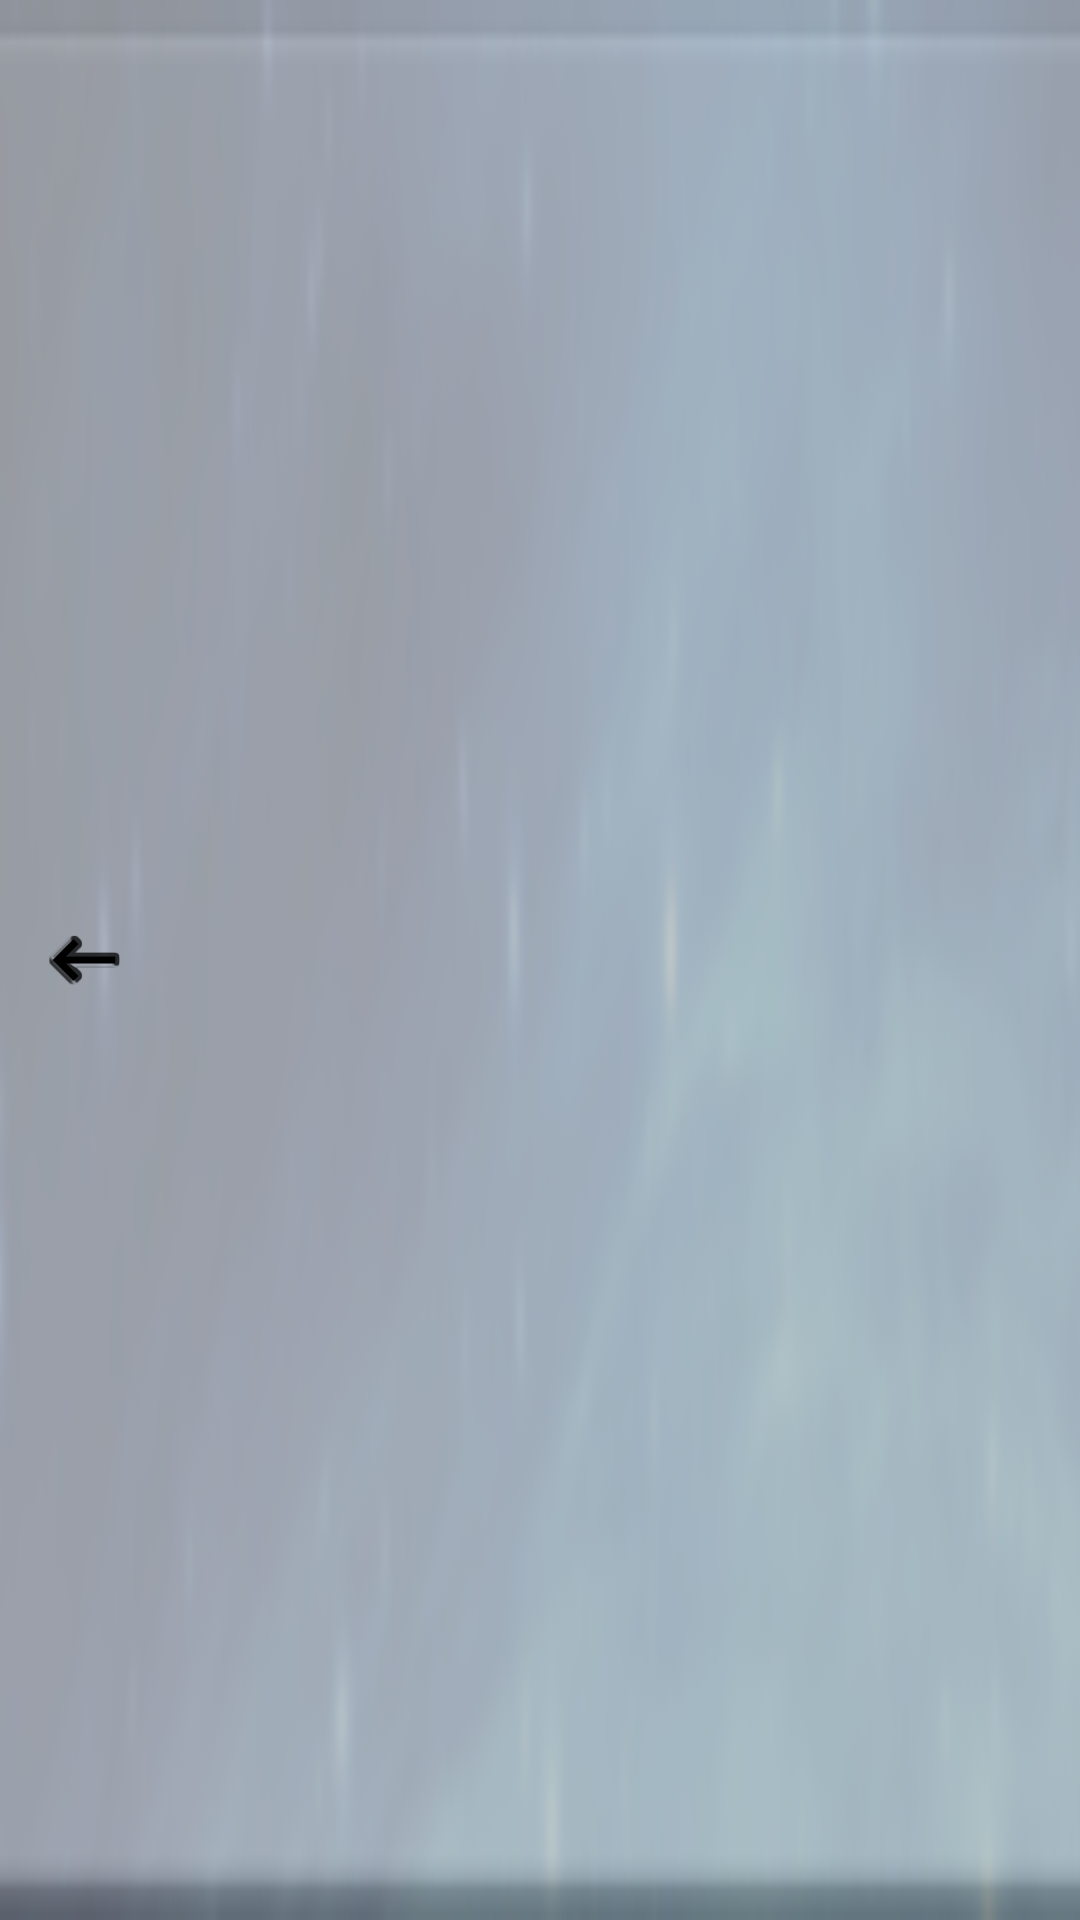

Locate icon controls on the screen. Image size 1080px x 1920px, boxes as (x1, y1, x2, y2).
keyboard backspace: (49, 936, 120, 984)
